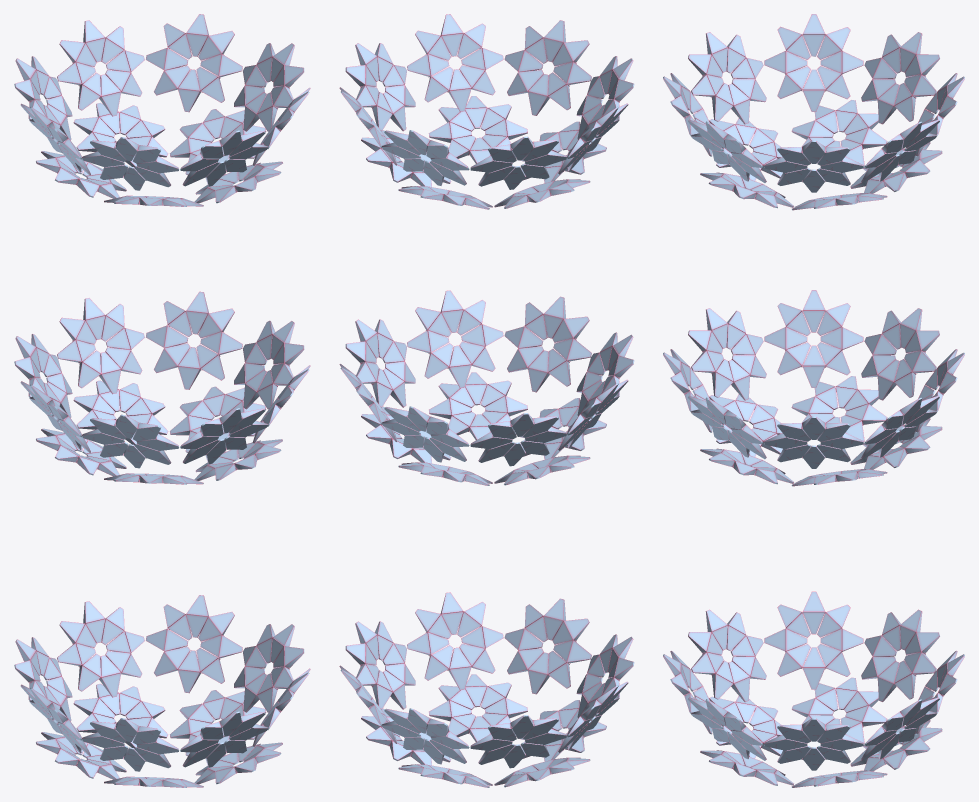
The model's file is modulo2.dae.
The picture shows the model from 3 angles, left to right: view 1: azimuth 30°, elevation 25°; view 2: azimuth 150°, elevation 25°; view 3: azimuth 270°, elevation 25°; orthographic projection.
Bounding box in the file's own units: 2023 × 5093 × 2023.
1 material, 1 textured.
